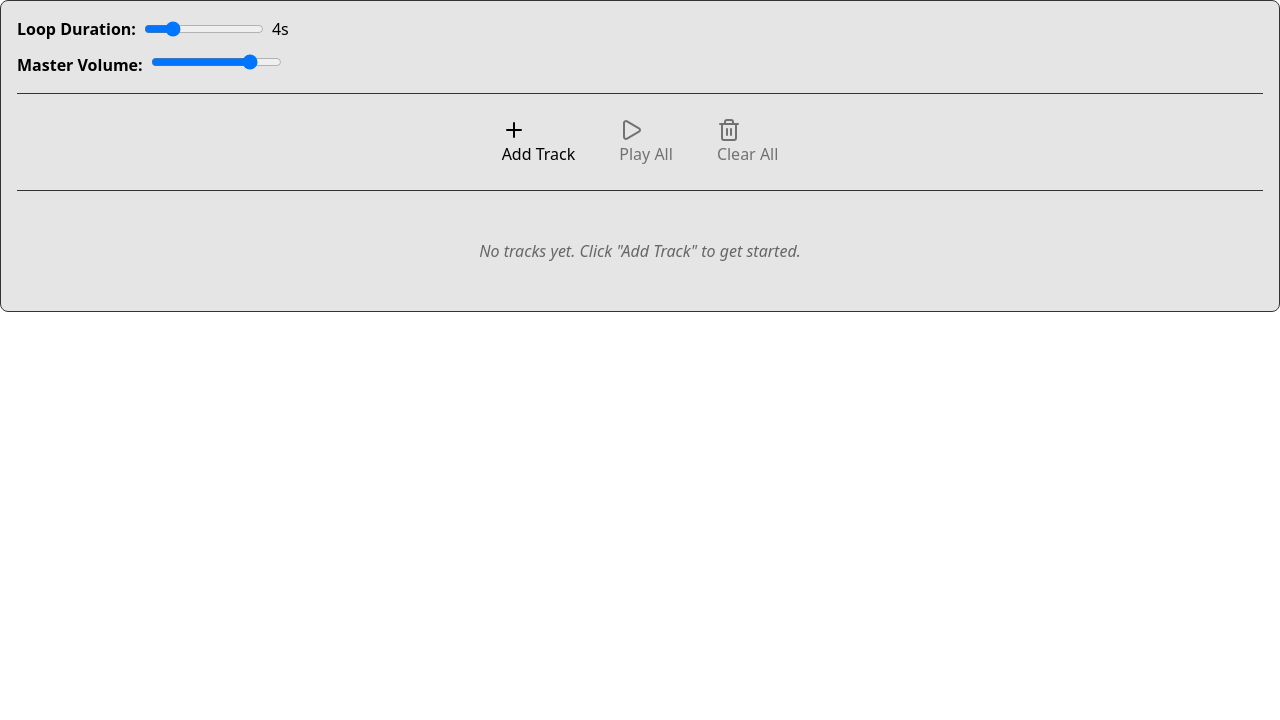
Test: AudioLooper › respects maxTracks limit
// Add first track
Click the button "Add Track": (538, 142) [486,110,591,174]
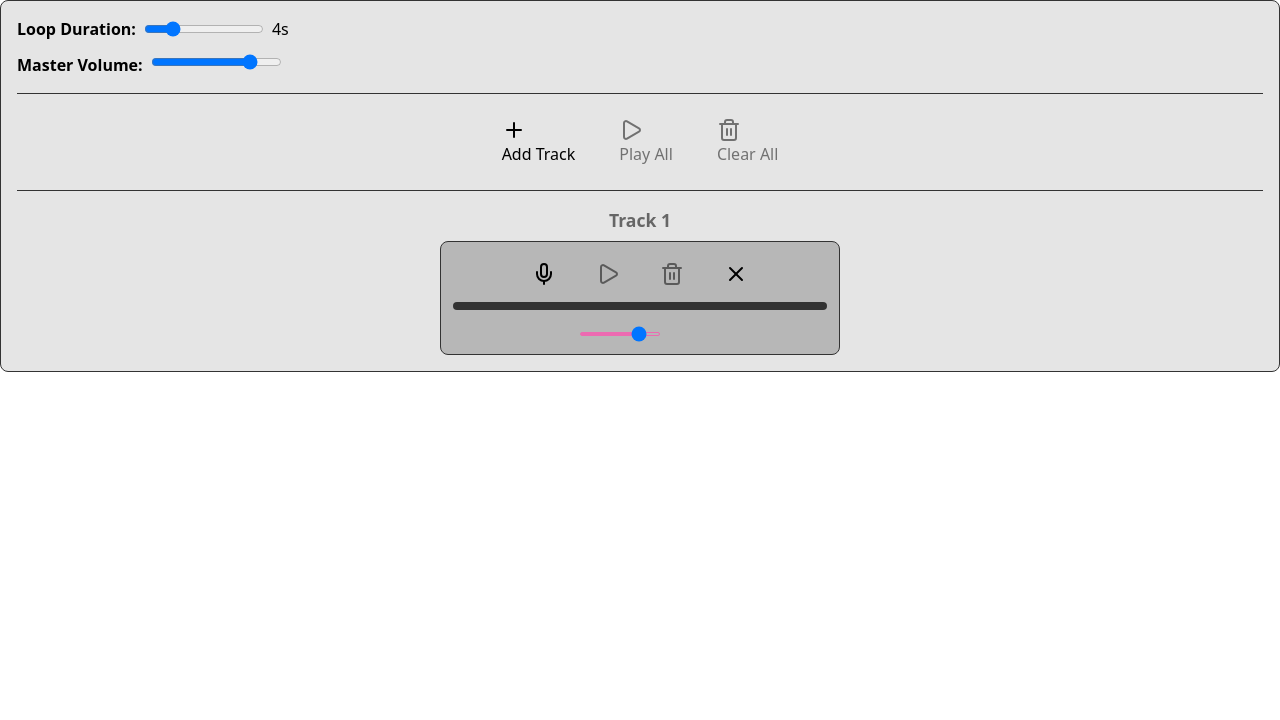
expect the text "Track 1" is shown: met, box [609,207,671,233]
// Add second track
Click the button "Add Track": (538, 142) [486,110,591,174]
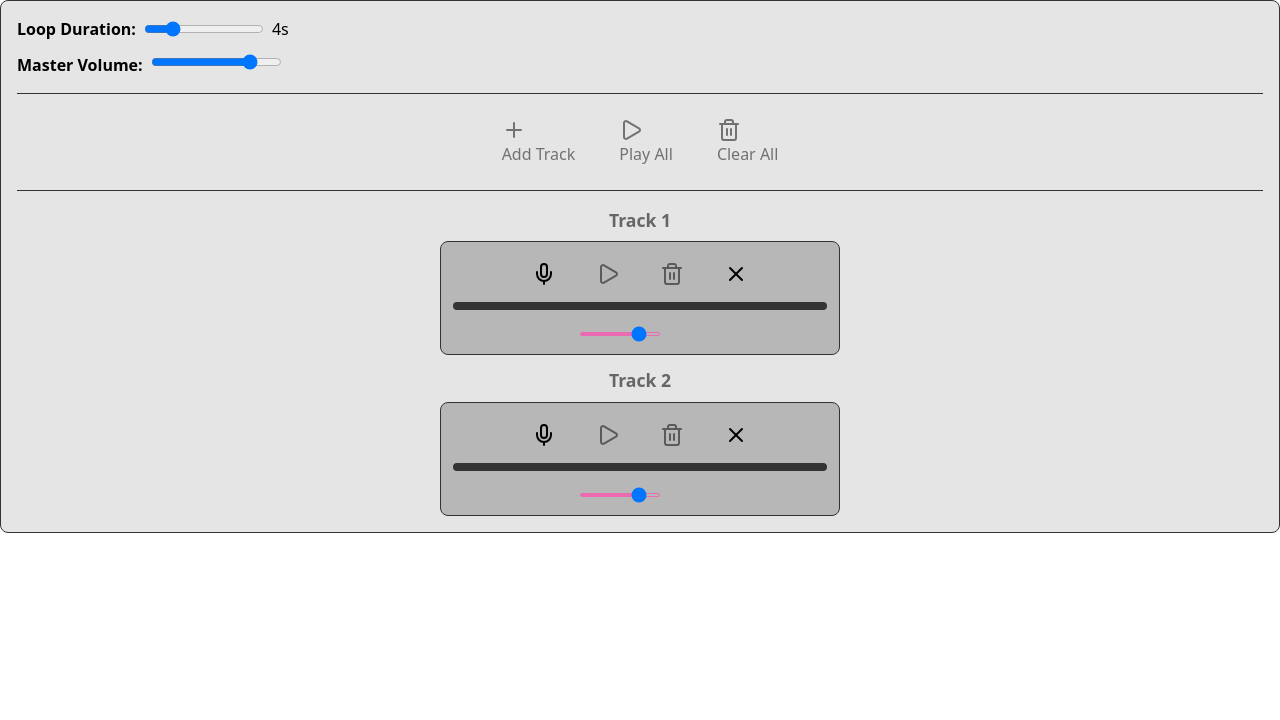
expect the text "Track 2" is shown: met, box [609,367,671,394]
expect the button "Add Track" is disabled: met, box [486,110,591,174]
